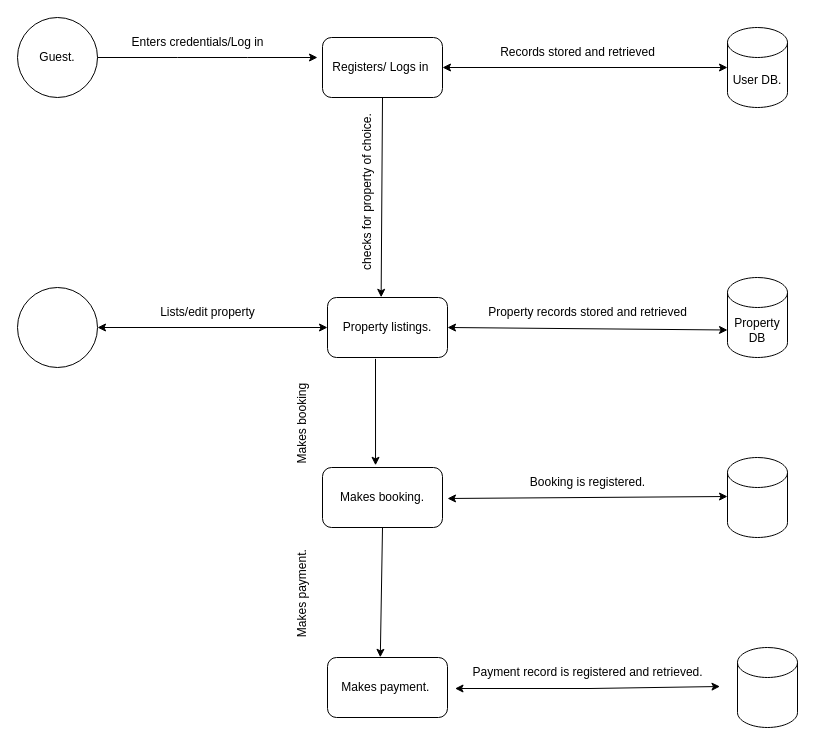
The diagram is 815 pixels wide and 745 high, and some of its shapes have lost their labels. The centre of each missing label's shape, as x and y in pixels:
"Booking DB." belongs at (757,497).
"Host" belongs at (57,327).
"Payment DB." belongs at (767,687).
